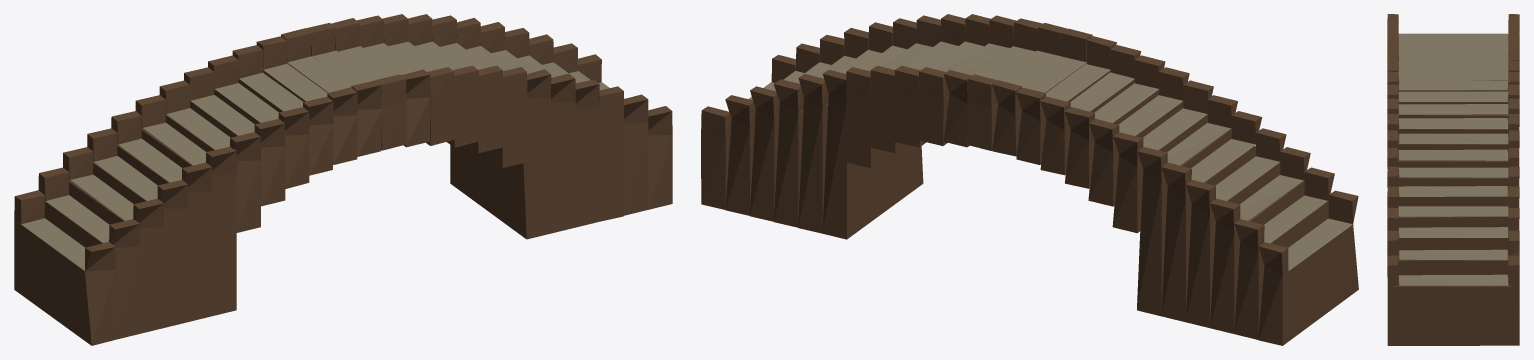
File: bridge-stone-lod1.glb
The picture shows the model from 3 angles, left to right: view 1: azimuth 30°, elevation 25°; view 2: azimuth 150°, elevation 25°; view 3: azimuth 270°, elevation 25°; orthographic projection. The views are drawn at different scales.
Size of the model in its own units: 20.02 by 6.29 by 4.6.
